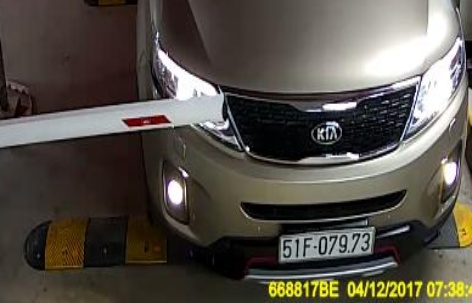plate: (276, 227, 378, 267)
